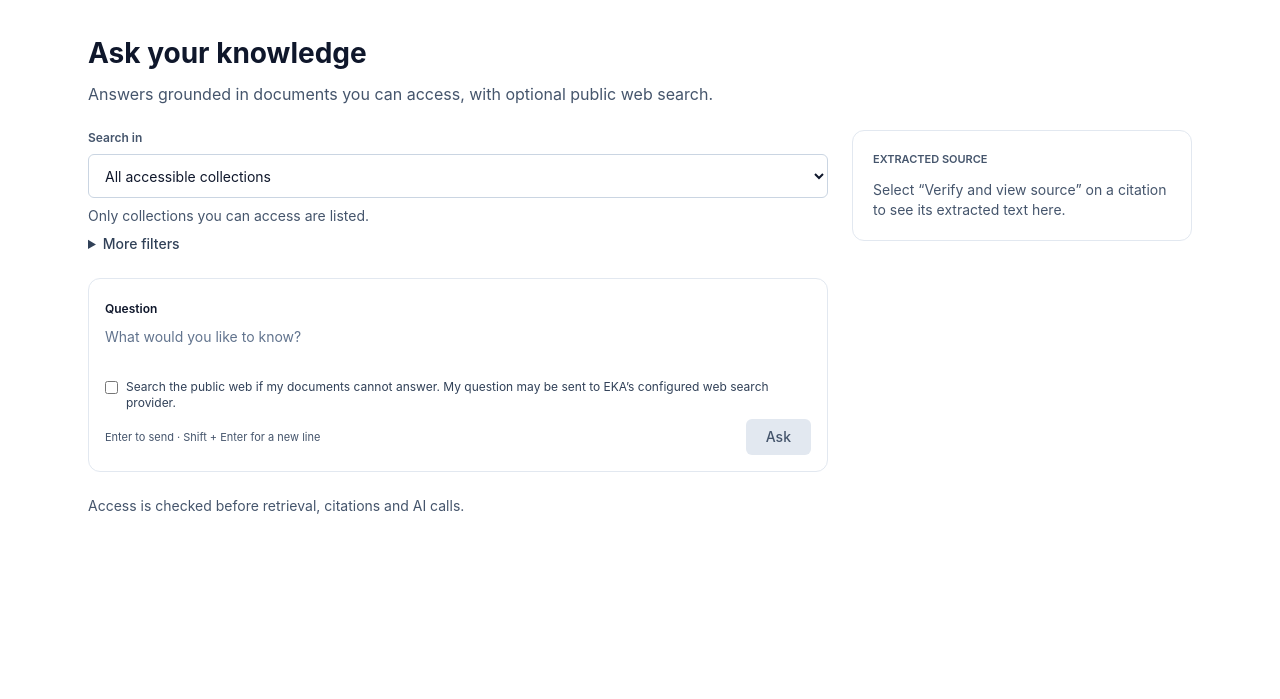
it: shows insufficient evidence distinctly
Type "Unknown?" into the text box labelled "Question". click: (458, 347)
box: top-left (105, 327), bottom-right (811, 367)
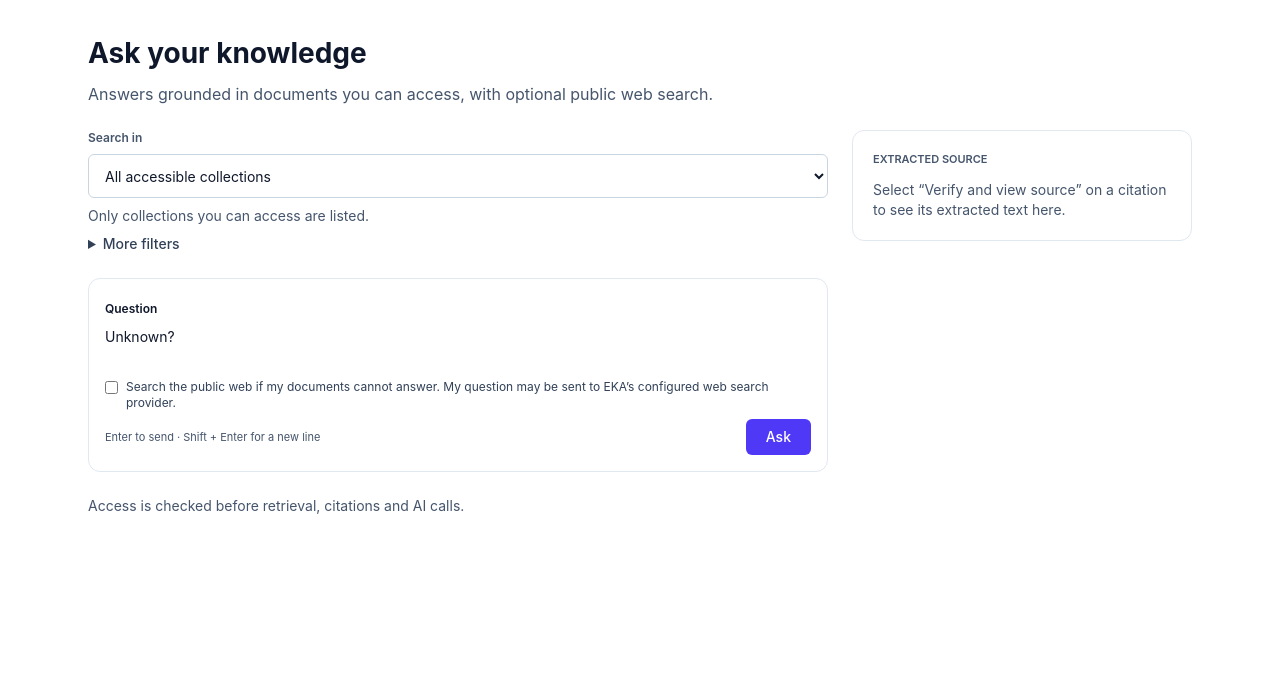
Click the button "Ask". click: (778, 437)
box: top-left (746, 419), bottom-right (811, 455)
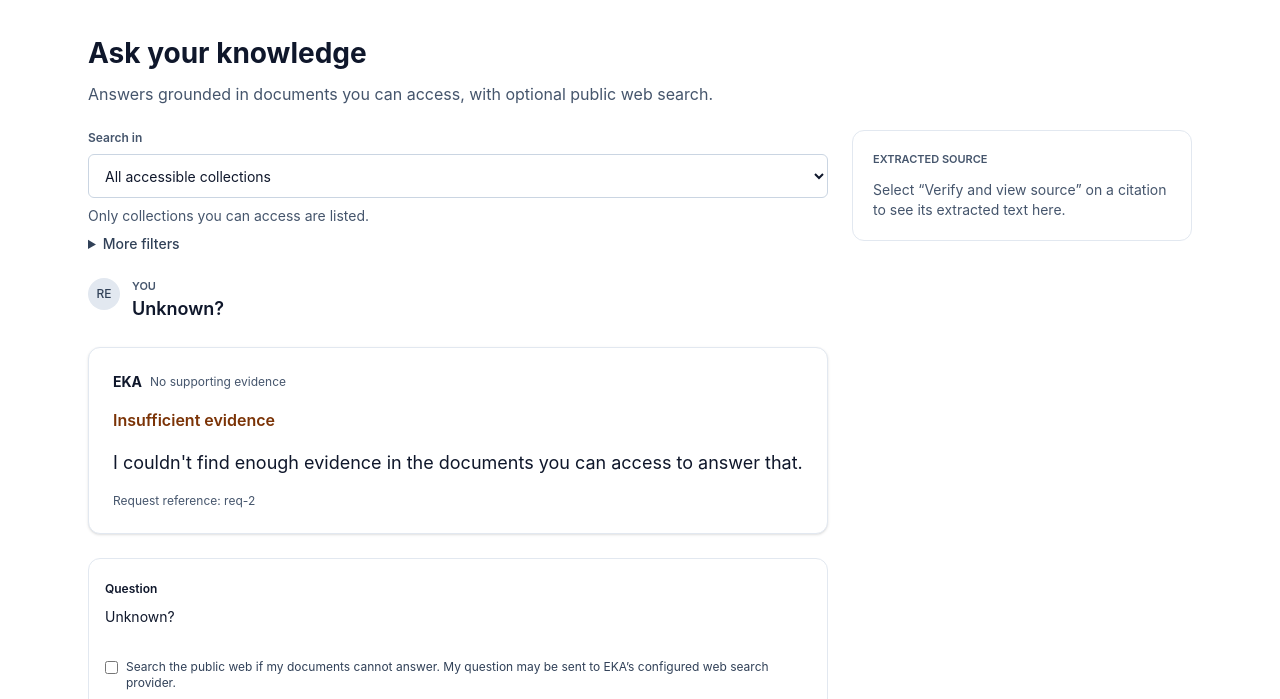
Result: the heading "Insufficient evidence" is shown at top-left (113, 410), bottom-right (275, 430)
